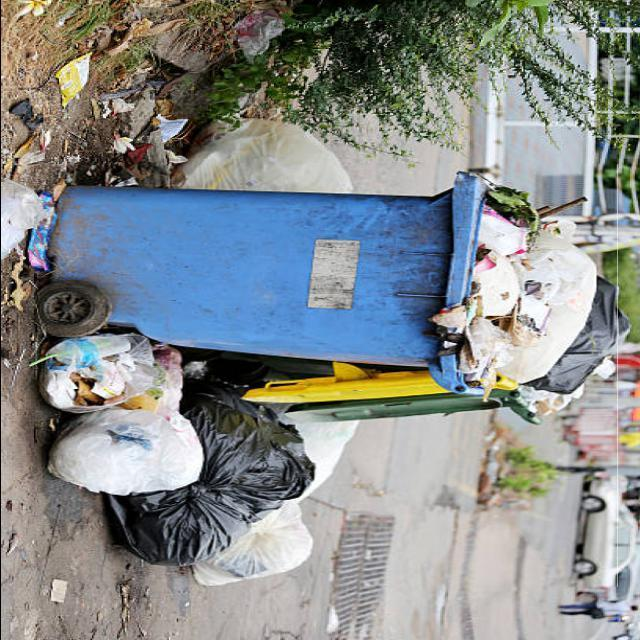Trashbag: (104, 379, 316, 571)
